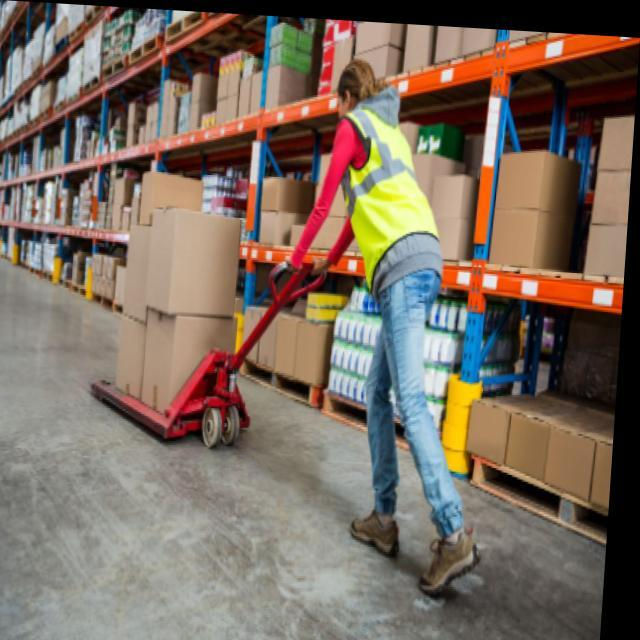boots: (341, 498, 490, 607)
vest: (320, 100, 454, 297)
